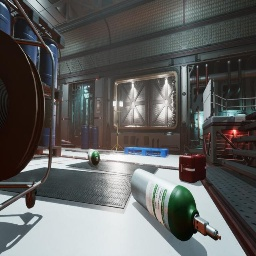0: (131, 169, 221, 241), (88, 149, 100, 166), (43, 146, 55, 150)
FirstAidBox ,: (179, 154, 206, 183)
NitrogenTank ,: (61, 139, 74, 144)
SafetySwitchPanel ,: (96, 98, 102, 113), (237, 114, 245, 116)
